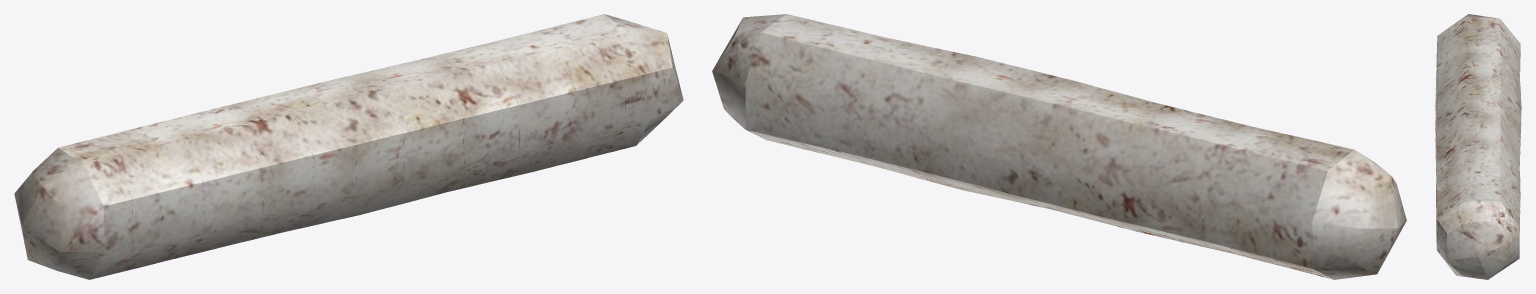
Rendered from Salami_sliced.fbx.
The picture shows the model from 3 angles, left to right: view 1: azimuth 30°, elevation 25°; view 2: azimuth 150°, elevation 25°; view 3: azimuth 270°, elevation 25°; orthographic projection. The views are drawn at different scales.
Visible parts, largest first — view 1: SalamiSlice22, SalamiSlice20, SalamiSlice19, SalamiSlice17, SalamiSlice6, SalamiSlice9, SalamiSlice10, SalamiSlice21, SalamiSlice16, SalamiSlice8, SalamiSlice7, SalamiSlice18 (+10 smaller); view 2: SalamiSlice22, SalamiSlice20, SalamiSlice19, SalamiSlice17, SalamiSlice9, SalamiSlice6, SalamiSlice10, SalamiSlice21, SalamiSlice16, SalamiSlice7, SalamiSlice8, SalamiSlice11 (+10 smaller); view 3: SalamiSlice1, SalamiSlice20, SalamiSlice19, SalamiSlice17, SalamiSlice6, SalamiSlice9, SalamiSlice10, SalamiSlice21, SalamiSlice16, SalamiSlice11, SalamiSlice7, SalamiSlice8 (+10 smaller).
Boxes of the visible parts, x1,y1,x2,y2 form: SalamiSlice22: [14, 148, 104, 279]; SalamiSlice20: [87, 131, 170, 272]; SalamiSlice19: [124, 122, 205, 263]; SalamiSlice17: [185, 108, 263, 248]; SalamiSlice6: [473, 39, 550, 178]; SalamiSlice9: [387, 60, 463, 199]; SalamiSlice10: [358, 67, 433, 207]; SalamiSlice21: [58, 140, 133, 279]; SalamiSlice16: [217, 101, 291, 240]; SalamiSlice8: [418, 53, 491, 191]; SalamiSlice7: [445, 46, 519, 184]; SalamiSlice18: [159, 116, 231, 254]; SalamiSlice22: [1312, 149, 1406, 279]; SalamiSlice20: [1244, 134, 1323, 271]; SalamiSlice19: [1208, 126, 1284, 262]; SalamiSlice17: [1147, 111, 1221, 246]; SalamiSlice9: [939, 57, 1011, 196]; SalamiSlice6: [849, 38, 923, 173]; SalamiSlice10: [970, 65, 1042, 203]; SalamiSlice21: [1282, 143, 1353, 279]; SalamiSlice16: [1117, 104, 1188, 238]; SalamiSlice7: [882, 45, 951, 181]; SalamiSlice8: [911, 51, 980, 189]; SalamiSlice11: [1001, 73, 1069, 209]; SalamiSlice1: [1436, 201, 1519, 279]; SalamiSlice20: [1435, 27, 1520, 89]; SalamiSlice19: [1435, 39, 1520, 96]; SalamiSlice17: [1435, 60, 1520, 115]; SalamiSlice6: [1436, 156, 1520, 207]; SalamiSlice9: [1436, 127, 1520, 176]; SalamiSlice10: [1436, 117, 1520, 175]; SalamiSlice21: [1436, 17, 1520, 62]; SalamiSlice16: [1435, 71, 1521, 129]; SalamiSlice11: [1436, 108, 1520, 160]; SalamiSlice7: [1436, 146, 1520, 182]; SalamiSlice8: [1437, 137, 1519, 172].
Size of the model in its own units: 0.4617 by 0.0769 by 0.0773.
